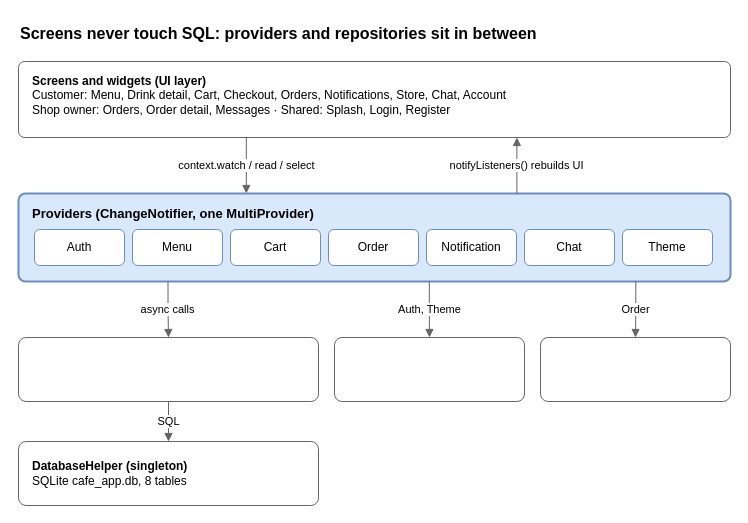
The diagram is 748 pixels wide and 523 high, and some of its shapes have lost their labels. The shapes that lost their labels are listed below. From the top down, each one's box as (x1, y1, x2, y2) in pixels, then its label:
(18, 336, 318, 402): Repositories (SQL per table group) User, Menu, Order, Chat, Notification
(334, 336, 524, 402): SharedPreferences Session user id, dark mode
(540, 336, 730, 402): NotificationService System notifications
